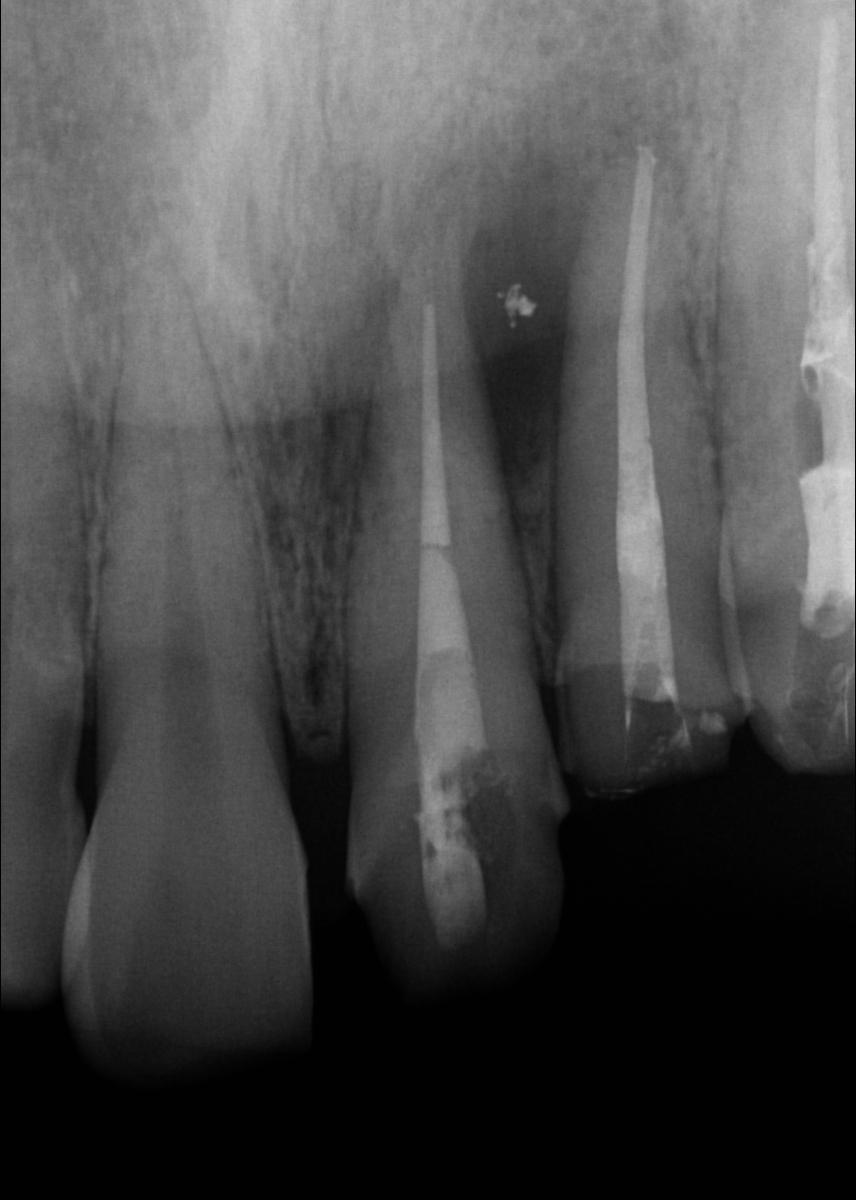Furcation Involvement: (392, 55, 698, 491), (246, 155, 402, 577)
